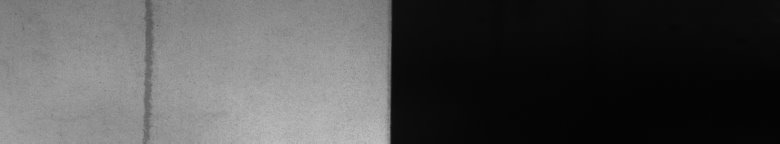hd: (137, 4, 164, 136)
